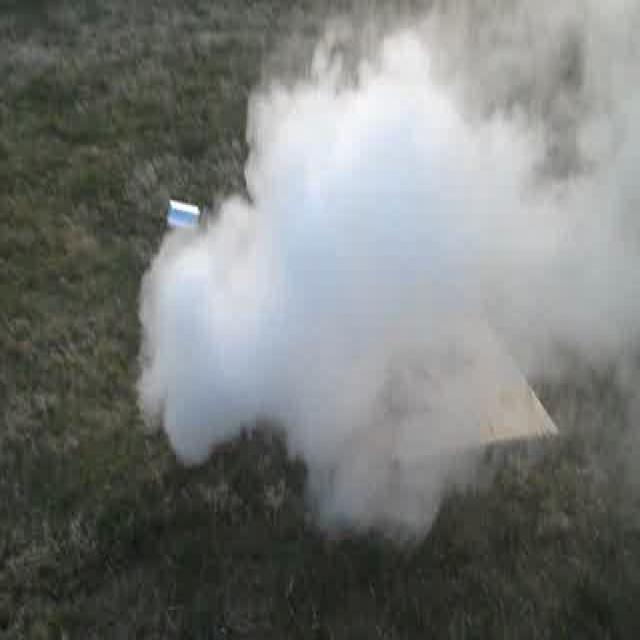Smoke: (166, 0, 636, 507)
